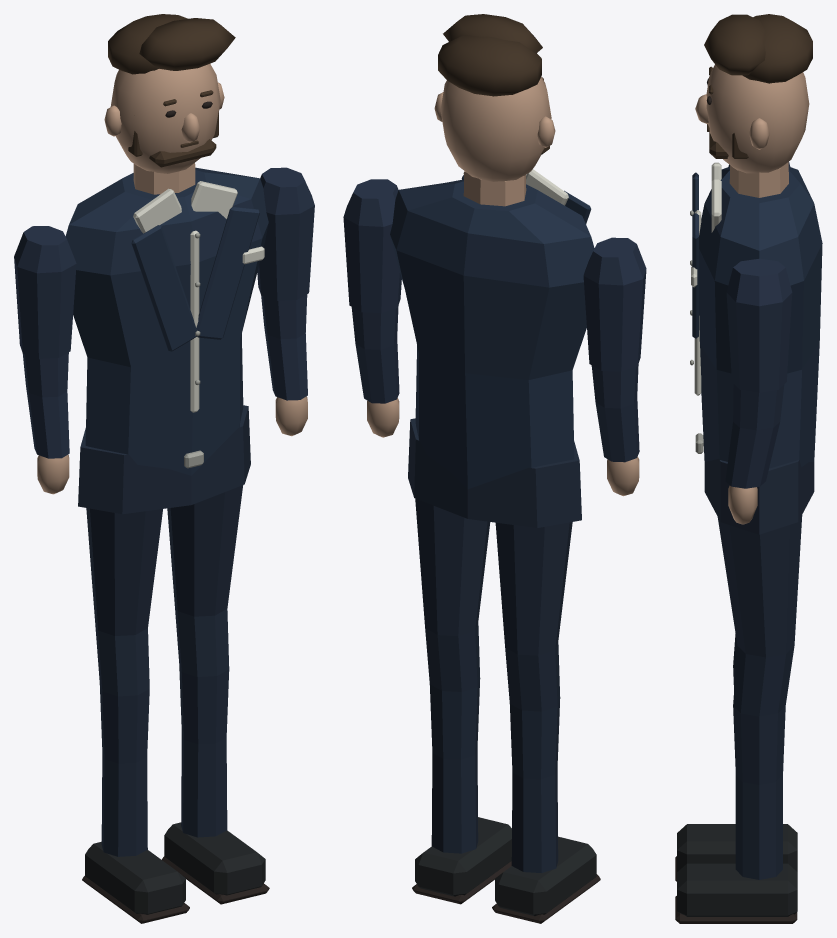
The model's file is person-3.glb.
3 views of the same model, side by side, from view 1: azimuth 30°, elevation 25°; view 2: azimuth 150°, elevation 25°; view 3: azimuth 270°, elevation 25° (orthographic).
Visible parts, largest first — view 1: body, knee_l, knee_r, arm_l, arm_r, leg_l, leg_r; view 2: body, knee_l, knee_r, arm_l, leg_l, arm_r, leg_r; view 3: body, knee_r, arm_r, leg_r, knee_l.
Boxes of the visible parts, x1,y1,x2,y2 form: body: (65,14,268,514); knee_l: (82,683,189,923); knee_r: (162,665,269,904); arm_l: (14,226,76,494); arm_r: (257,167,314,436); leg_l: (86,508,162,696); leg_r: (167,485,243,676); body: (390,14,594,527); knee_l: (492,698,600,923); knee_r: (412,680,511,904); arm_l: (583,237,646,496); leg_l: (495,522,572,711); arm_r: (343,179,401,437); leg_r: (415,498,490,691); body: (690,14,822,534); knee_r: (675,706,797,923); arm_r: (725,258,792,524); leg_r: (717,515,802,716); knee_l: (675,666,797,881).
Size of the model in its own units: 0.1134 by 0.3166 by 0.0482.
